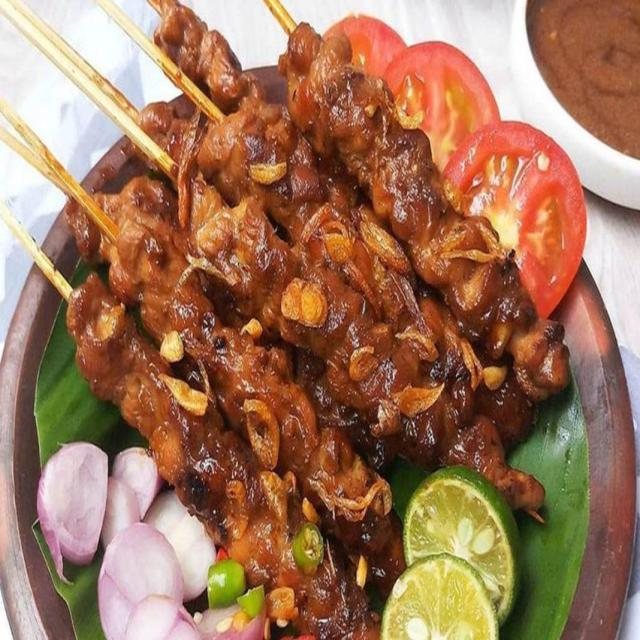Sate: (0, 7, 589, 635)
